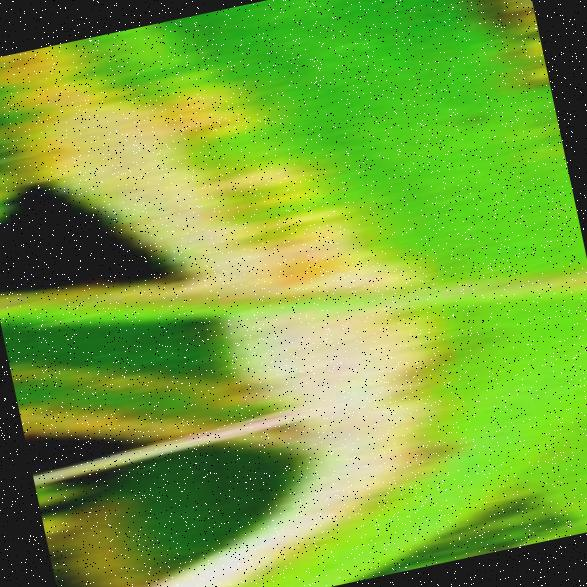Bacteria_Leaf_Blight: (77, 0, 587, 569)
